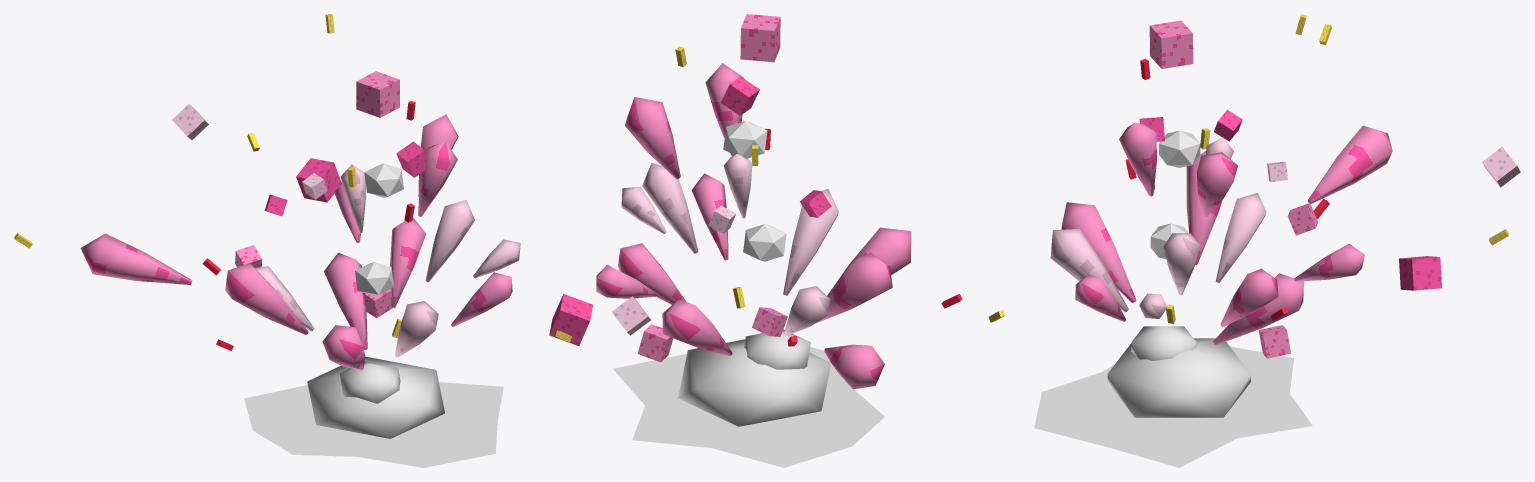
The model's file is Strawberry Splat Burst.fbx.
3 views of the same model, side by side, from view 1: azimuth 30°, elevation 25°; view 2: azimuth 150°, elevation 25°; view 3: azimuth 270°, elevation 25° (orthographic). The views are drawn at different scales.
Parts seen in each view (by area): view 1: Strawberry Splat Burst puddle, Strawberry Splat Burst core, Strawberry Splat Burst drop 5, Strawberry Splat Burst crown 4, Strawberry Splat Burst crown 2, Strawberry Splat Burst core top, Strawberry Splat Burst crown 1, Strawberry Splat Burst crown 0, Strawberry Splat Burst cube 0, Strawberry Splat Burst drop 2, Strawberry Splat Burst crown 6, Strawberry Splat Burst crown 5 (+12 smaller); view 2: Strawberry Splat Burst puddle, Strawberry Splat Burst core, Strawberry Splat Burst crown 4, Strawberry Splat Burst drop 1, Strawberry Splat Burst crown 0, Strawberry Splat Burst crown 2, Strawberry Splat Burst crown 6, Strawberry Splat Burst core top, Strawberry Splat Burst crown 1, Strawberry Splat Burst drop 5, Strawberry Splat Burst cube 0, Strawberry Splat Burst crown 5 (+15 smaller); view 3: Strawberry Splat Burst puddle, Strawberry Splat Burst core, Strawberry Splat Burst drop 5, Strawberry Splat Burst crown 5, Strawberry Splat Burst crown 6, Strawberry Splat Burst crown 2, Strawberry Splat Burst crown 3, Strawberry Splat Burst cube 0, Strawberry Splat Burst core top, Strawberry Splat Burst drop 1, Strawberry Splat Burst drop 2, Strawberry Splat Burst crown 1 (+12 smaller).
Part boxes in pixels (x1,y1,x2,y2): Strawberry Splat Burst puddle: (244,382,503,467); Strawberry Splat Burst core: (307,356,444,438); Strawberry Splat Burst drop 5: (80,233,192,284); Strawberry Splat Burst crown 4: (225,263,308,334); Strawberry Splat Burst crown 2: (324,252,367,350); Strawberry Splat Burst core top: (339,361,400,403); Strawberry Splat Burst crown 1: (390,217,426,307); Strawberry Splat Burst crown 0: (425,199,474,282); Strawberry Splat Burst cube 0: (356,71,399,117); Strawberry Splat Burst drop 2: (418,141,457,216); Strawberry Splat Burst crown 6: (395,301,438,357); Strawberry Splat Burst crown 5: (322,325,365,370); Strawberry Splat Burst puddle: (613,347,884,467); Strawberry Splat Burst core: (678,339,831,426); Strawberry Splat Burst crown 4: (816,253,892,322); Strawberry Splat Burst drop 1: (624,97,680,179); Strawberry Splat Burst crown 0: (642,163,698,253); Strawberry Splat Burst crown 2: (662,299,732,355); Strawberry Splat Burst crown 6: (783,189,838,295); Strawberry Splat Burst core top: (744,329,810,369); Strawberry Splat Burst crown 1: (617,243,686,304); Strawberry Splat Burst drop 5: (824,344,884,389); Strawberry Splat Burst cube 0: (740,14,780,62); Strawberry Splat Burst crown 5: (827,227,911,296); Strawberry Splat Burst puddle: (1034,346,1312,467); Strawberry Splat Burst core: (1107,338,1250,417); Strawberry Splat Burst drop 5: (1307,125,1392,203); Strawberry Splat Burst crown 5: (1061,202,1136,302); Strawberry Splat Burst crown 6: (1050,228,1128,312); Strawberry Splat Burst crown 2: (1213,273,1303,345); Strawberry Splat Burst crown 3: (1215,193,1266,283); Strawberry Splat Burst cube 0: (1149,20,1193,68); Strawberry Splat Burst core top: (1131,326,1196,360); Strawberry Splat Burst drop 1: (1197,152,1237,216); Strawberry Splat Burst drop 2: (1119,123,1156,196); Strawberry Splat Burst crown 1: (1220,268,1278,327).
Size of the model in its own units: 0.6963 by 0.5748 by 0.6351.
8 materials, 5 textured.
